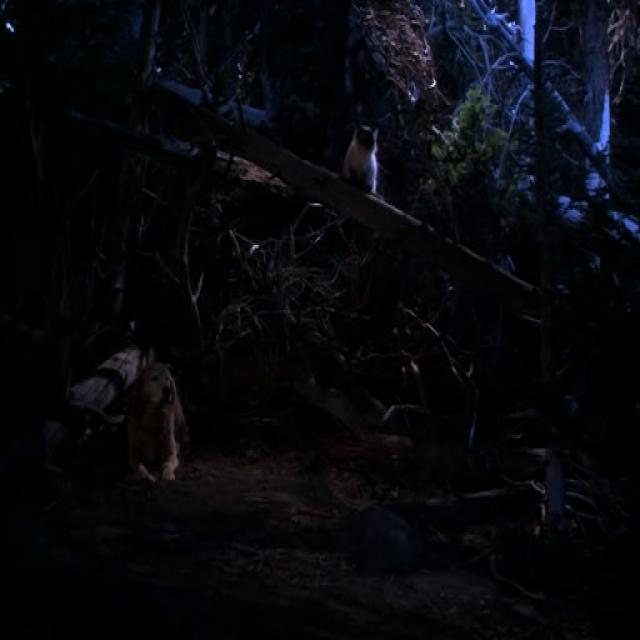Cat: (343, 112, 393, 202)
dog: (126, 354, 199, 496)
